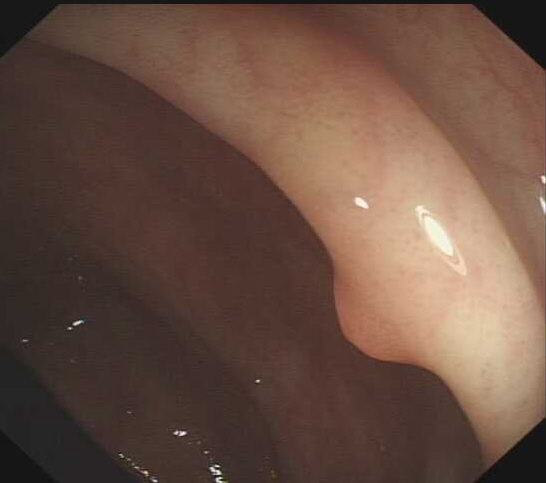adenoma: (323, 260, 433, 372)
